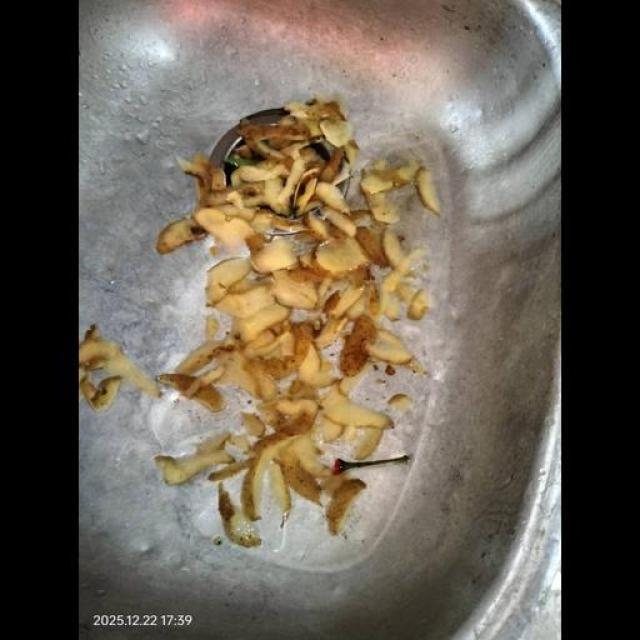organic: (160, 90, 500, 553), (333, 455, 409, 474), (225, 154, 257, 167)
